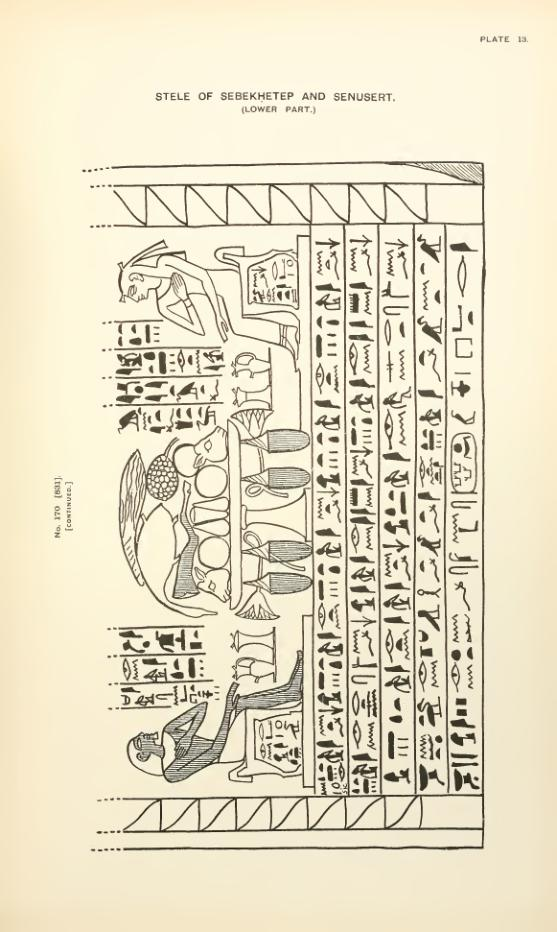circle: (448, 427, 481, 498)
